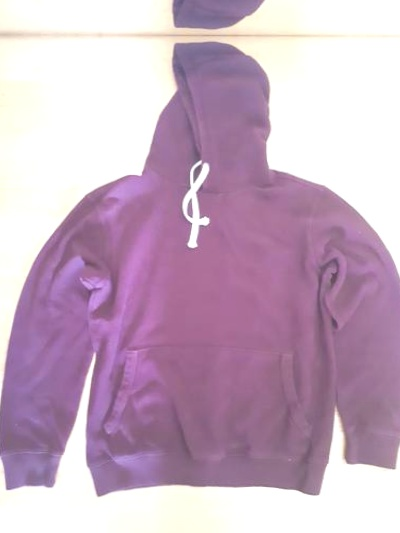Hoodie: (5, 46, 400, 494), (6, 0, 400, 24)
